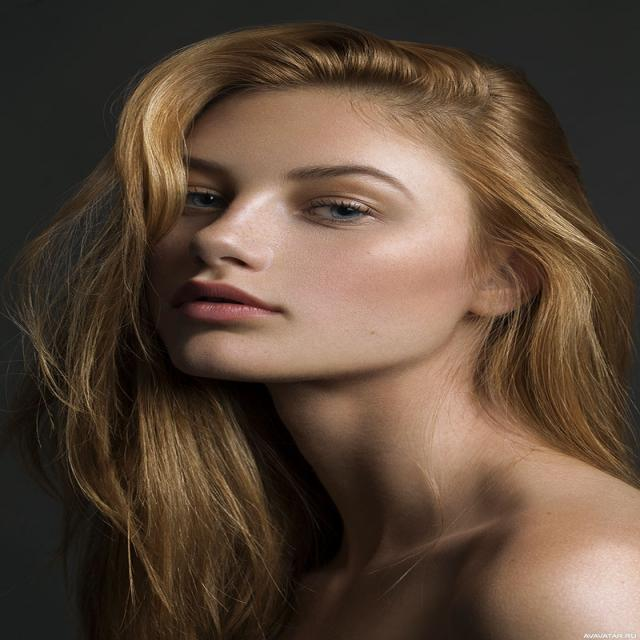earlobe: (472, 283, 514, 321)
eye: (298, 200, 381, 225), (171, 187, 234, 213)
nose: (182, 246, 256, 285)
wholeear: (474, 242, 545, 320)
